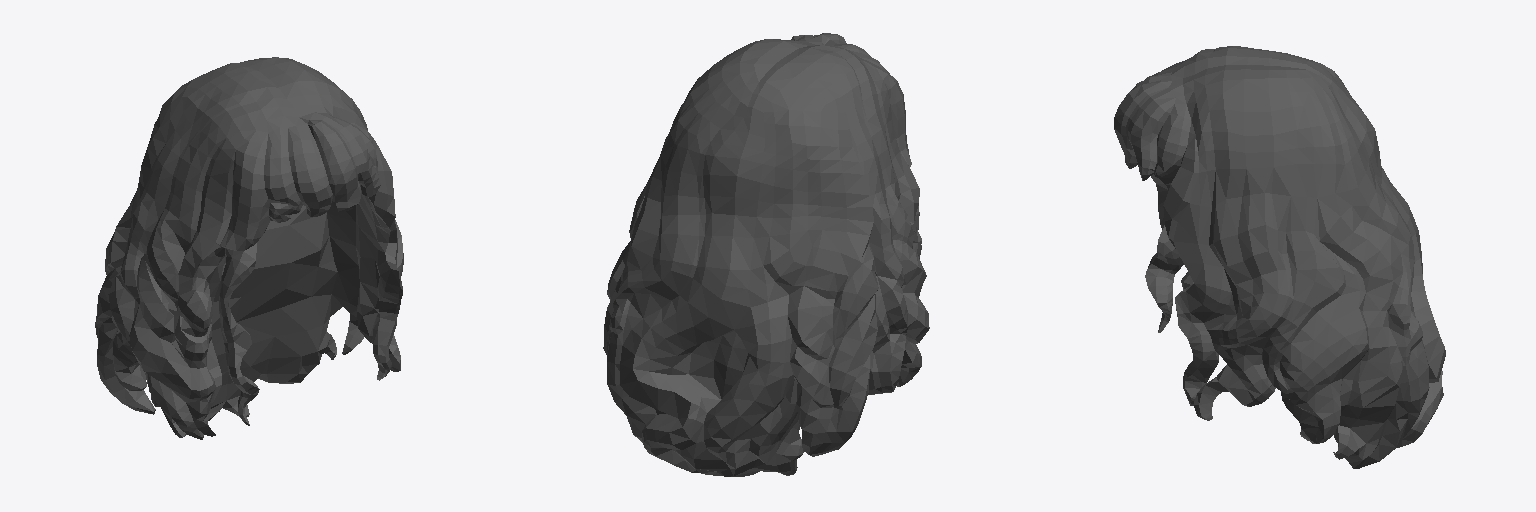
The model's file is ruth.obj.
The picture shows the model from 3 angles: view 1: azimuth 30°, elevation 25°; view 2: azimuth 150°, elevation 25°; view 3: azimuth 270°, elevation 25°; orthographic projection.
Bounding box in the file's own units: 0.3648 × 0.4783 × 0.3742.